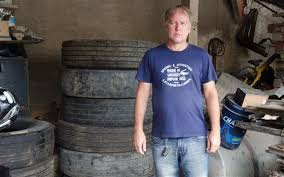tire: (54, 117, 166, 153), (55, 65, 171, 99), (58, 144, 172, 177), (57, 93, 163, 127), (60, 36, 169, 69), (1, 113, 56, 171)
